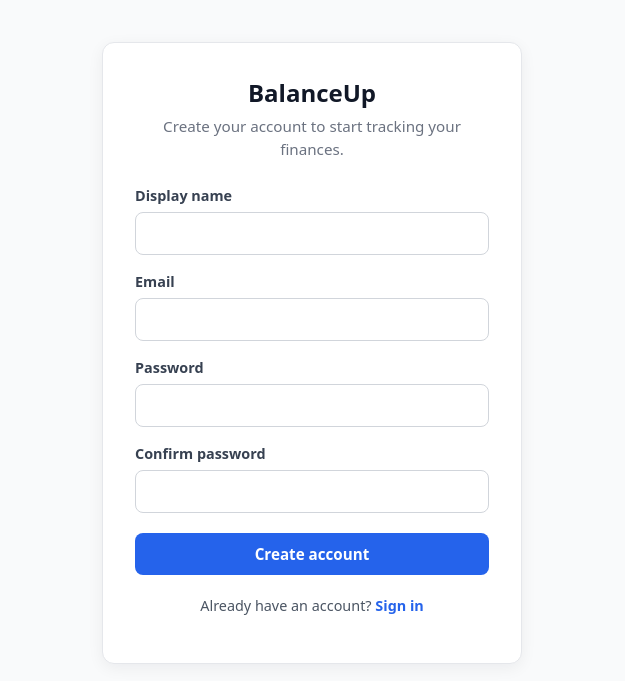
Test case: App & Auth Routing › authenticates immediately when register returns a JWT token
In the field labelled "Display name": (312, 233) x1=135 y1=212 x2=489 y2=255, type "Maria"
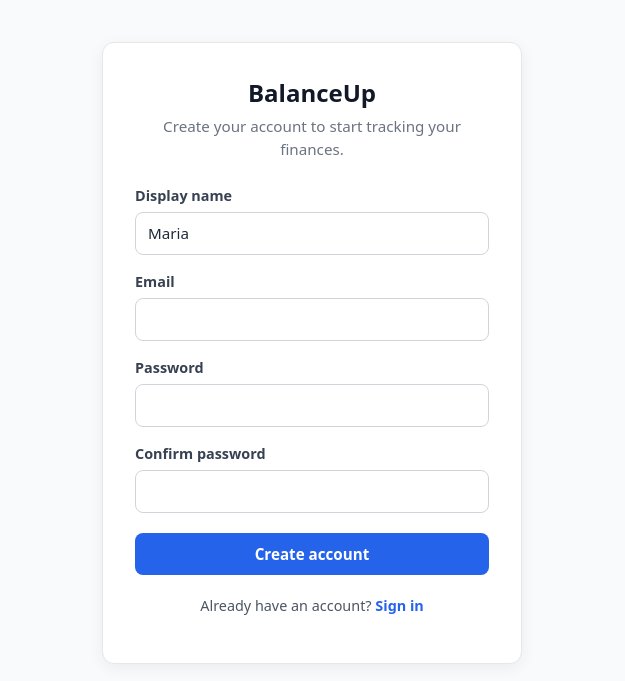
In the field labelled "Email": (312, 319) x1=135 y1=298 x2=489 y2=341, type "maria@example.com"
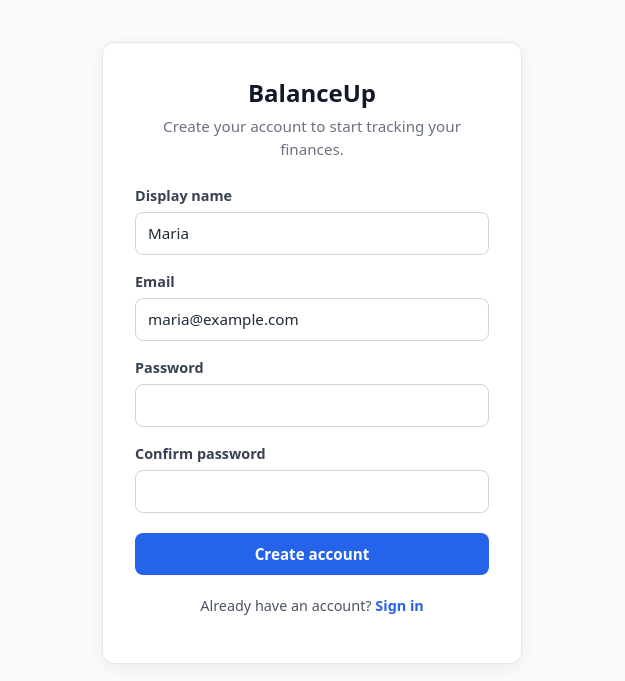
In the password field labelled "Password": (312, 405) x1=135 y1=384 x2=489 y2=427, type "password123"
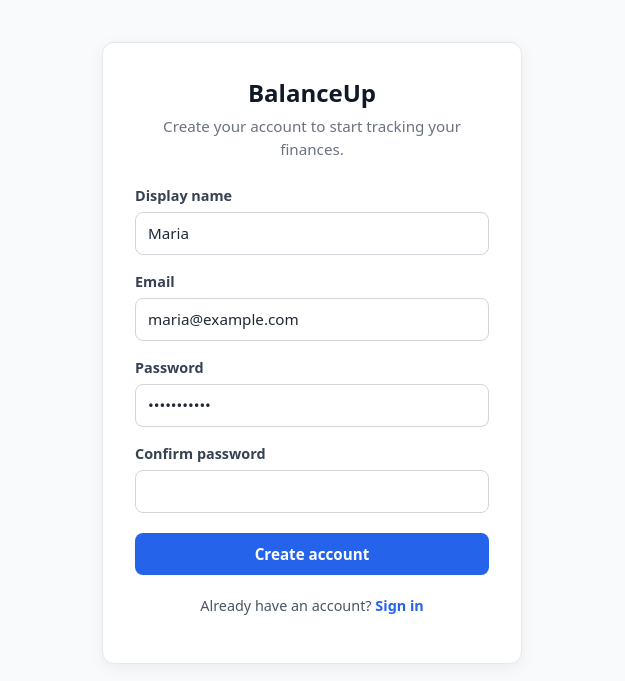
In the password field labelled "Confirm password": (312, 491) x1=135 y1=470 x2=489 y2=513, type "password123"
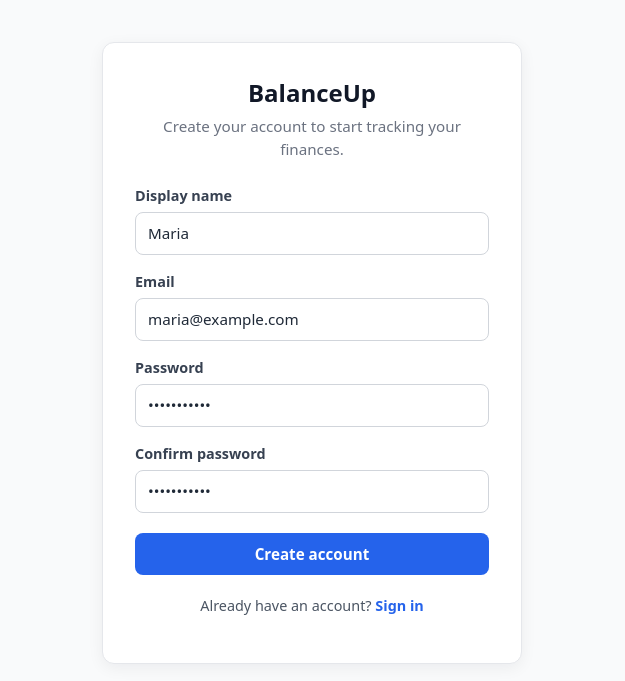
Click the button "Create account": (312, 554) x1=135 y1=533 x2=489 y2=575
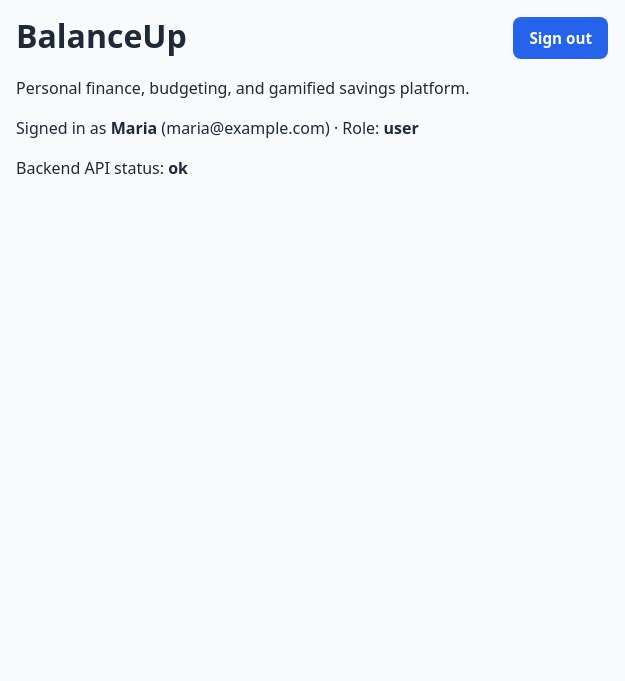
Check: the button "Sign out" is shown, box x1=514 y1=17 x2=608 y2=59
